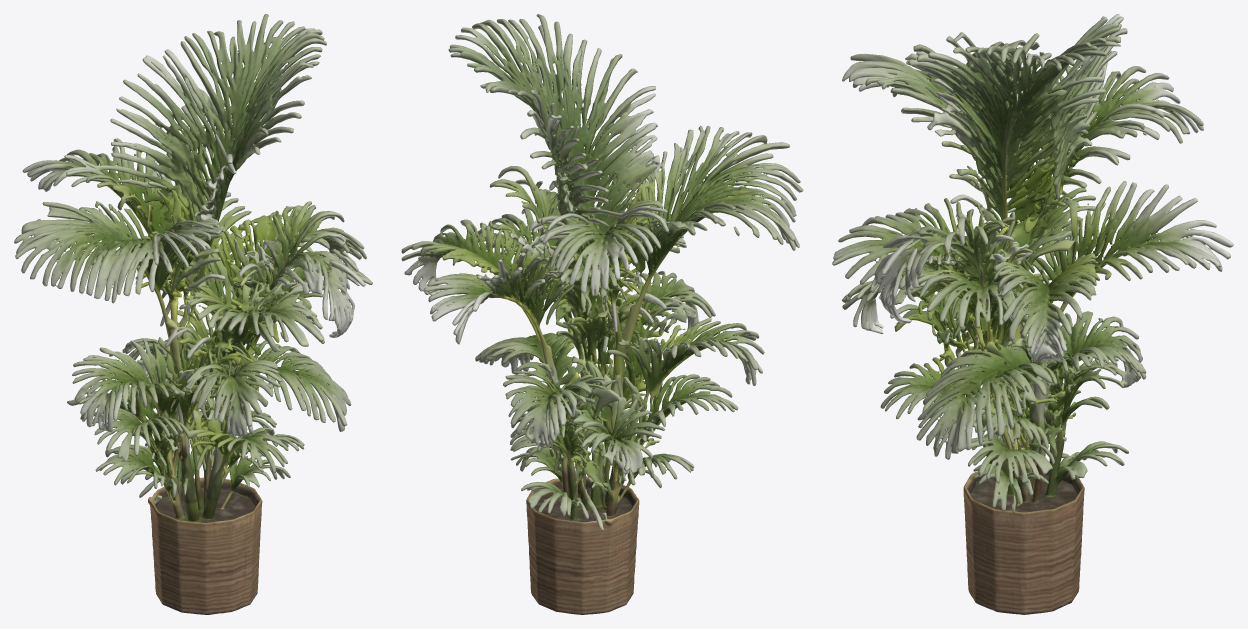
The model's file is plant-draco.glb.
3 renders of one model, left to right at view 1: azimuth 30°, elevation 25°; view 2: azimuth 150°, elevation 25°; view 3: azimuth 270°, elevation 25°, orthographic. The views are drawn at different scales.
Visible parts, largest first — view 1: world; view 2: world; view 3: world.
Part boxes in pixels (<box>): world: <box>14,14,372,614</box>; world: <box>401,14,803,614</box>; world: <box>832,14,1233,614</box>.
Bounding box in the file's own units: 0.7 × 1 × 0.6099.
Materials: 1 (1 with a texture image).
